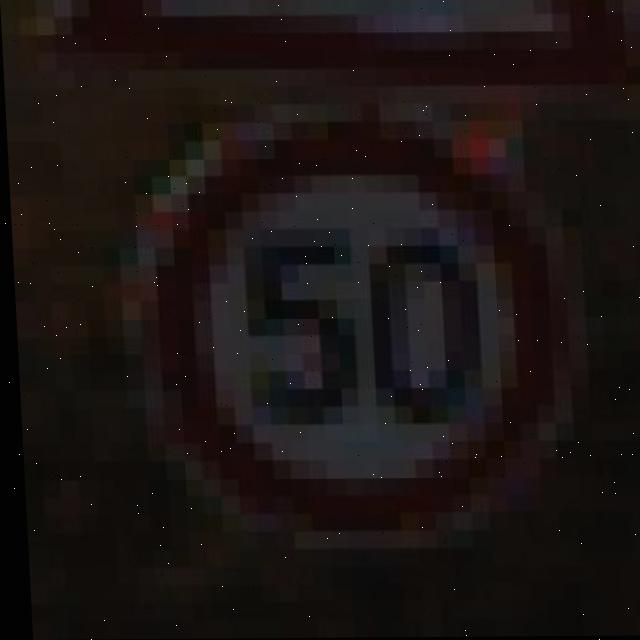Speed limit 50: (119, 92, 587, 554)
